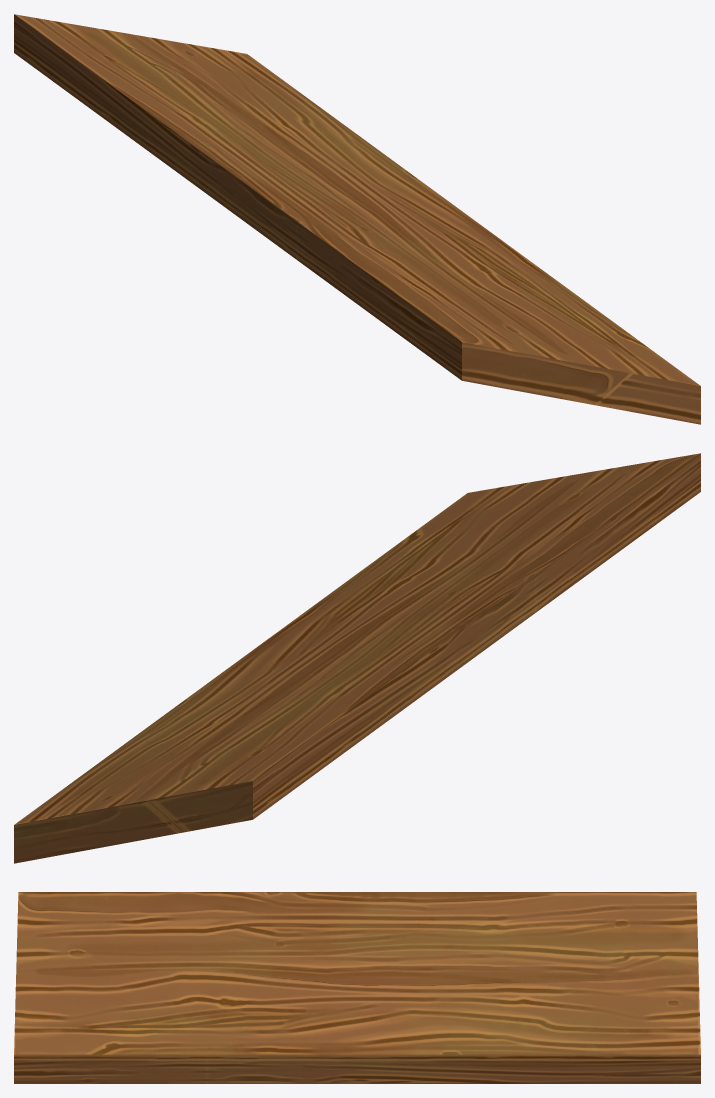
3 renders of one model, top to bottom at view 1: azimuth 30°, elevation 25°; view 2: azimuth 150°, elevation 25°; view 3: azimuth 270°, elevation 25°, orthographic. The views are drawn at different scales.
Parts seen in each view (by area): view 1: Cube.1214; view 2: Cube.1214; view 3: Cube.1214.
Boxes of the visible parts, x1=… form: Cube.1214: x1=14, y1=14, x2=700, y2=424; Cube.1214: x1=14, y1=453, x2=700, y2=863; Cube.1214: x1=14, y1=892, x2=700, y2=1083.
Size of the model in its own units: 101 by 56.37 by 336.
1 material, 1 textured.
